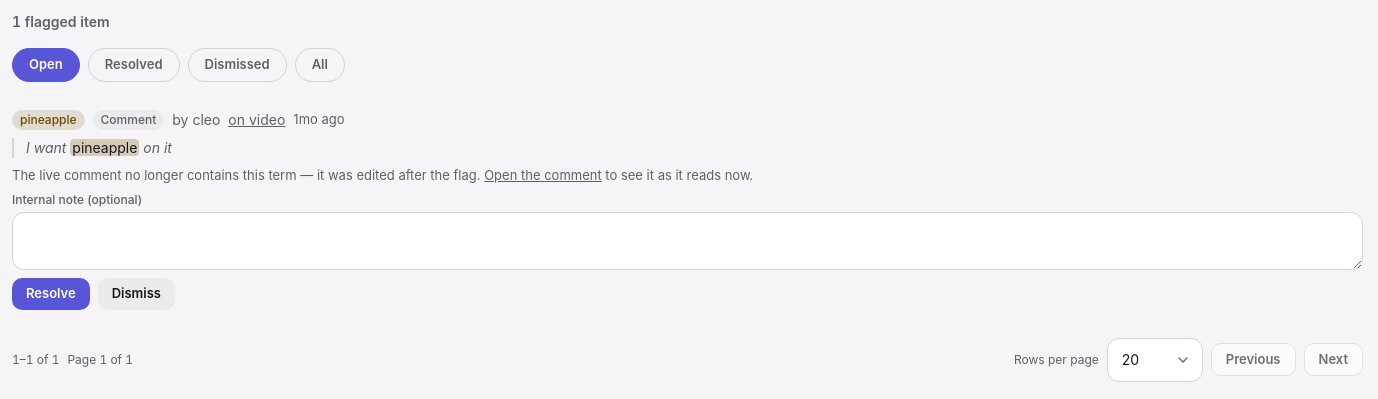
Test case: WatchedWordMatchesView › resolves a match with the moderator's note and removes it from the open queue
Expected: the text "I want pineapple on it" is shown, [12, 138, 1363, 158]
Type "removed the comment" into the text box named "Internal moderator note" at (688, 240), box [12, 212, 1363, 270]
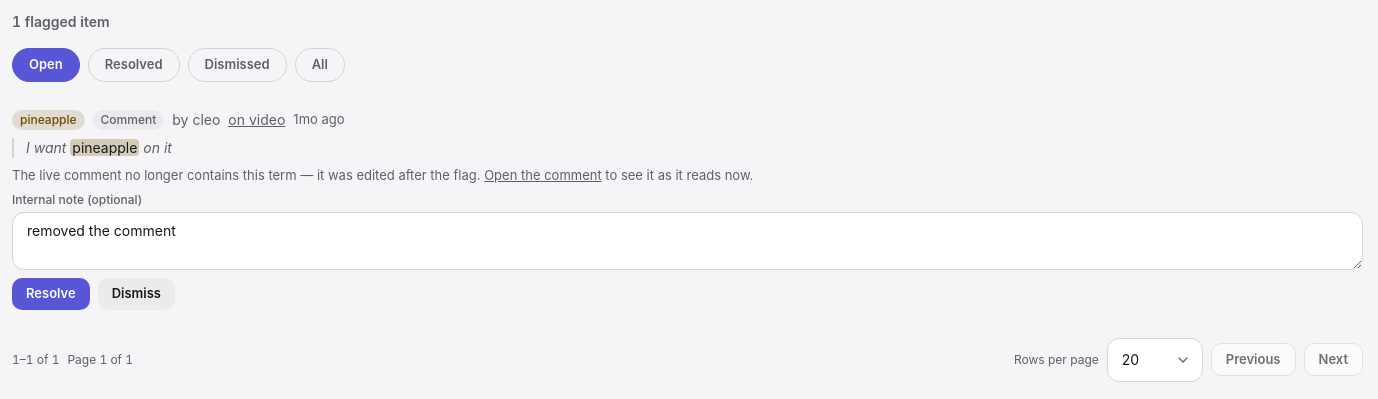
Click the button "Resolve" at (51, 294), box [12, 278, 90, 310]
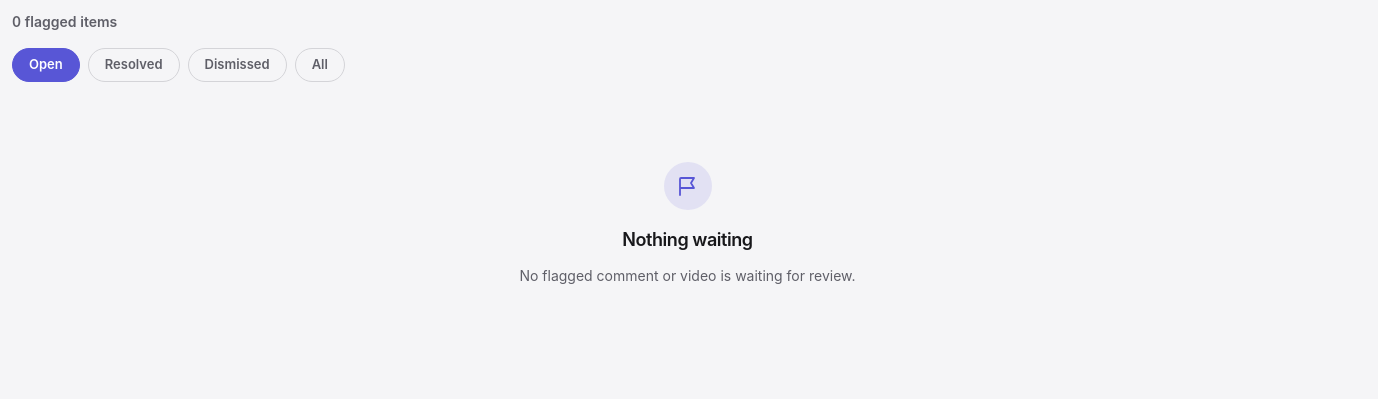
Expected: the text "I want" is gone
